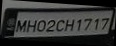character: (15, 18, 27, 32), (25, 19, 36, 32), (63, 18, 74, 31), (55, 18, 65, 31), (83, 17, 92, 30), (36, 19, 45, 31), (45, 19, 54, 31), (100, 17, 109, 29), (93, 17, 99, 30), (76, 18, 81, 31)
